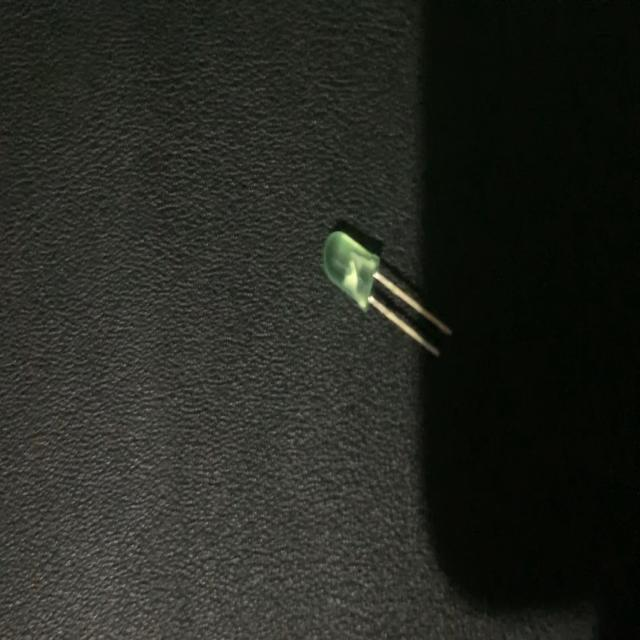LED: (322, 226, 453, 362)
